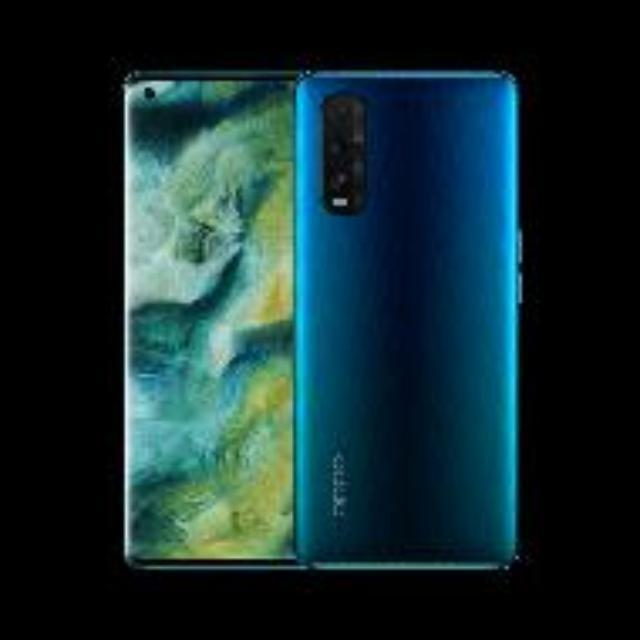phone: (119, 72, 521, 571)
